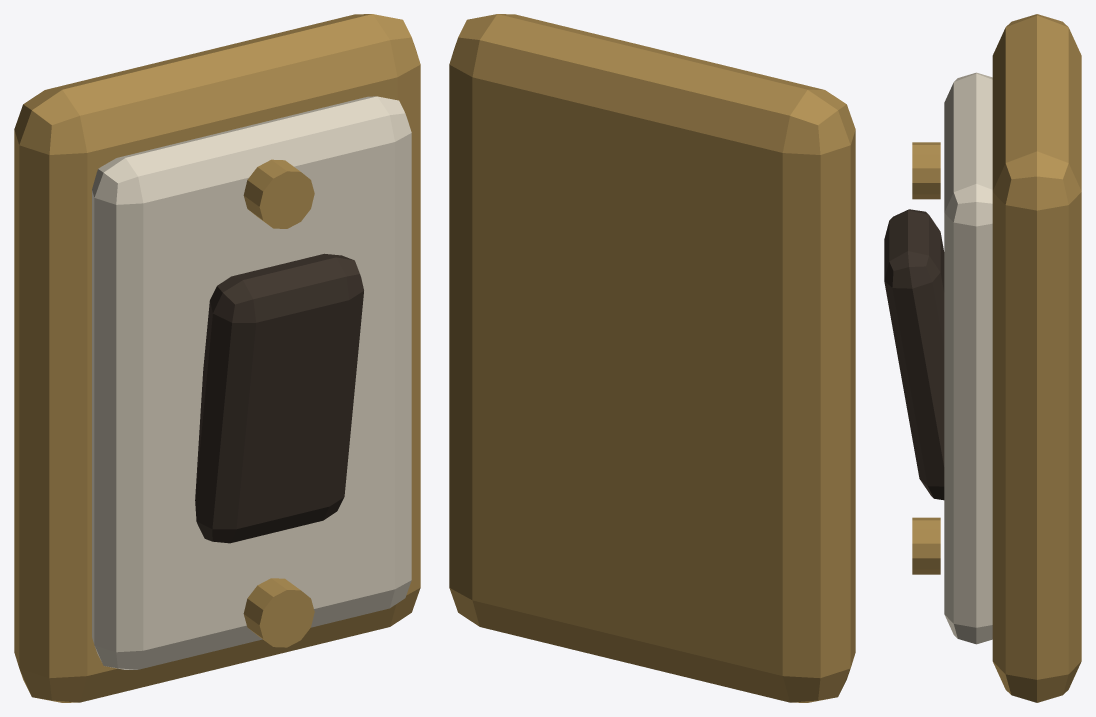
File: wall_switch.glb
3 views of the same model, side by side, from view 1: azimuth 30°, elevation 25°; view 2: azimuth 150°, elevation 25°; view 3: azimuth 270°, elevation 25° (orthographic). The views are drawn at different scales.
Visible parts, largest first — view 1: SwitchPorcelainInset, SwitchBackPlate, SwitchRocker, PlateScrew, PlateScrew.001; view 2: SwitchBackPlate; view 3: SwitchBackPlate, SwitchPorcelainInset, SwitchRocker, PlateScrew, PlateScrew.001.
Part boxes in pixels (x1=…): SwitchPorcelainInset: x1=92, y1=96, x2=411, y2=669; SwitchBackPlate: x1=14, y1=14, x2=420, y2=702; SwitchRocker: x1=195, y1=253, x2=363, y2=543; PlateScrew: x1=243, y1=578, x2=314, y2=647; PlateScrew.001: x1=243, y1=159, x2=314, y2=228; SwitchBackPlate: x1=449, y1=14, x2=855, y2=702; SwitchBackPlate: x1=992, y1=14, x2=1081, y2=702; SwitchPorcelainInset: x1=944, y1=72, x2=992, y2=644; SwitchRocker: x1=884, y1=209, x2=944, y2=500; PlateScrew: x1=912, y1=517, x2=940, y2=574; PlateScrew.001: x1=912, y1=142, x2=940, y2=199.
Size of the model in its own units: 0.115 by 0.17 by 0.0553.
